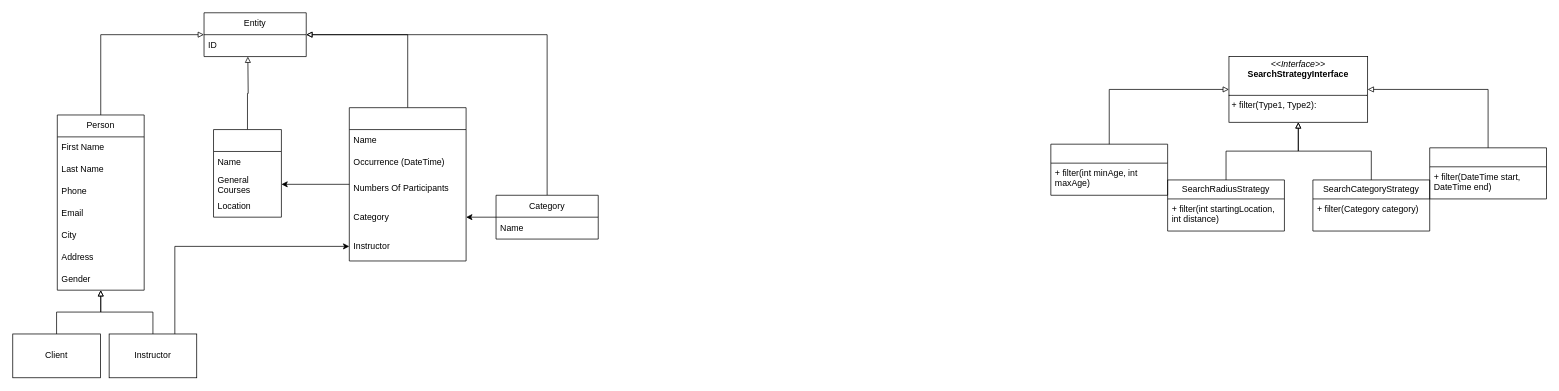
The diagram is 1559 pixels wide and 391 high, and some of its shapes have lost their labels. Here are the shapes that lost their labels. From the top down, the box of each, then its label:
(213, 129, 281, 217): Business
(349, 107, 466, 261): Course
(1050, 143, 1168, 195): SearchAgeStrategy
(1429, 147, 1547, 199): SearchDateStrategy
